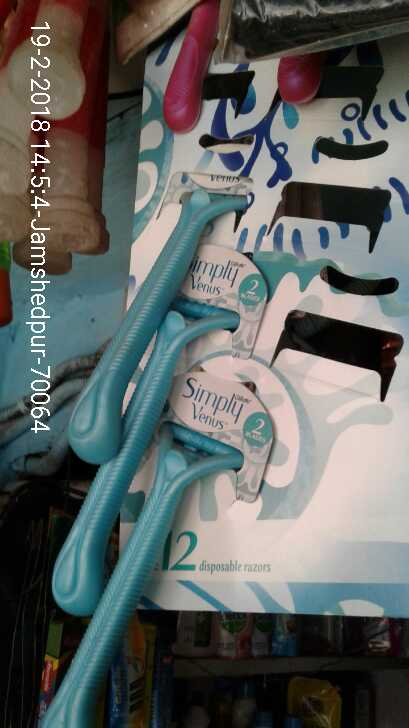reject: (285, 257, 364, 324)
